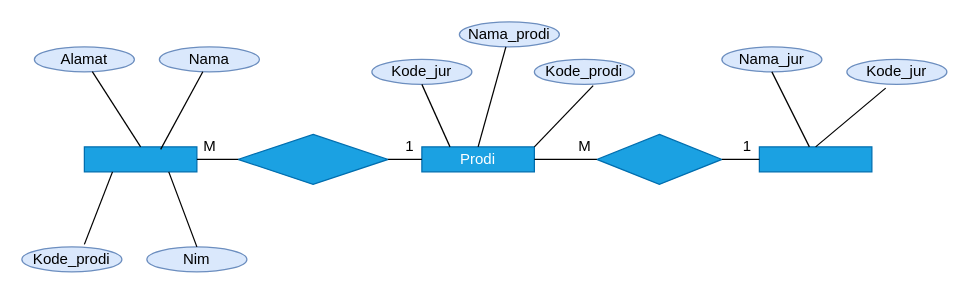
This 969x294 diagram has some shape labels left out. Here are the shapes that lost their labels. From the top down, the centre of each, then its label:
point (140, 159): Mahasiswa
point (312, 158): menganbil
point (659, 158): Mempunyai
point (815, 159): Jurusan
